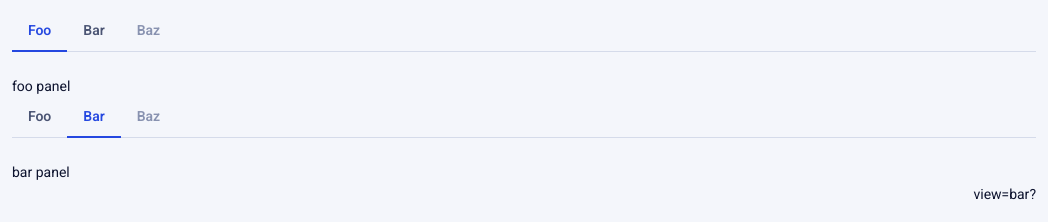
Tabs › two tab sets on one screen keep their own param
Click the 1st tab "Bar": (94, 32) top-left (67, 12), bottom-right (121, 52)
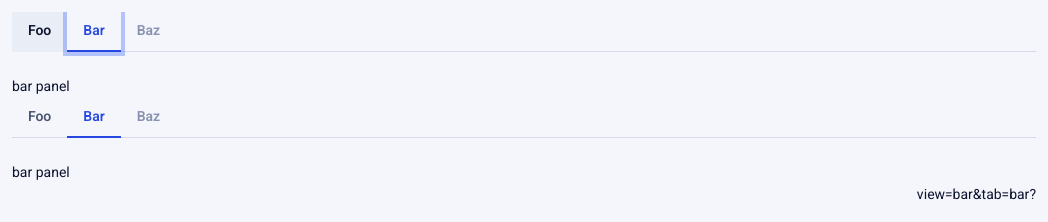
Now the text with test id "search" reads "?view=bar&tab=bar", box top-left (917, 184), bottom-right (1036, 205)
